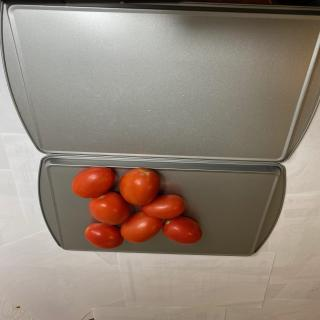Chilli: (71, 166, 202, 249)
Tomato: (119, 168, 161, 205), (88, 191, 130, 225), (71, 166, 115, 198), (120, 212, 163, 243), (162, 216, 202, 245), (140, 194, 185, 219), (84, 223, 124, 249)
